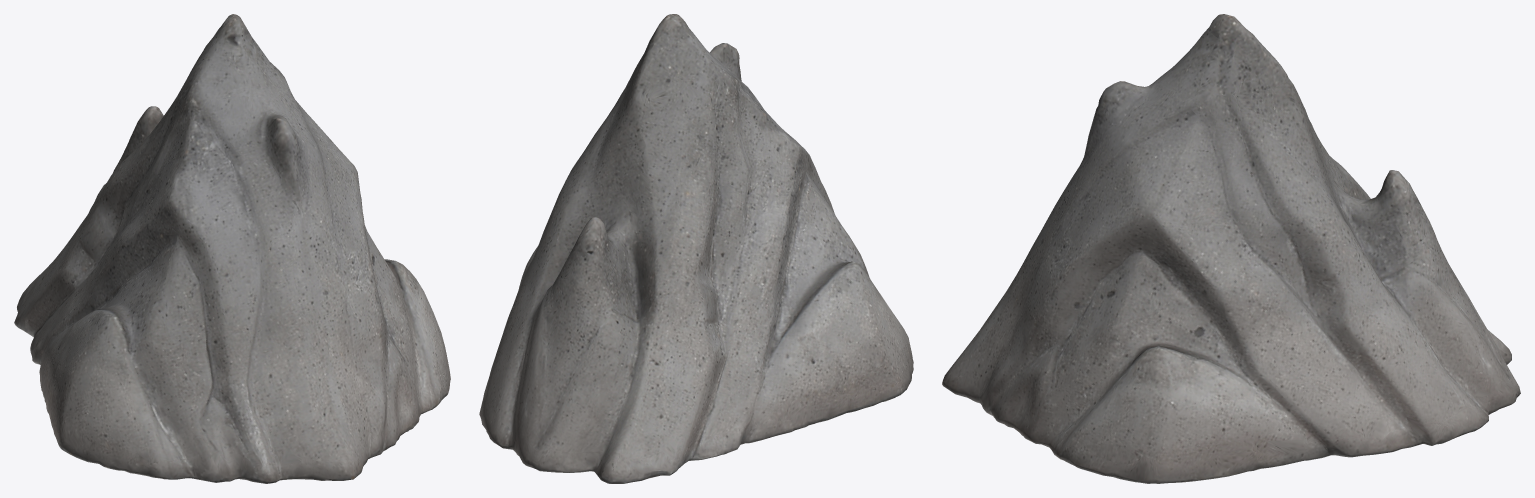
File: 06_mountain.glb
The picture shows the model from 3 angles, left to right: view 1: azimuth 30°, elevation 25°; view 2: azimuth 150°, elevation 25°; view 3: azimuth 270°, elevation 25°; orthographic projection. The views are drawn at different scales.
Parts seen in each view (by area): view 1: Group14903; view 2: Group14903; view 3: Group14903.
Part boxes in pixels (box(x1,y1,x2,y2)): Group14903: box(14, 14, 450, 483); Group14903: box(479, 14, 913, 483); Group14903: box(942, 14, 1520, 483).
Bounding box in the file's own units: 2.08 × 1.91 × 2.61.
1 material, 1 textured.
